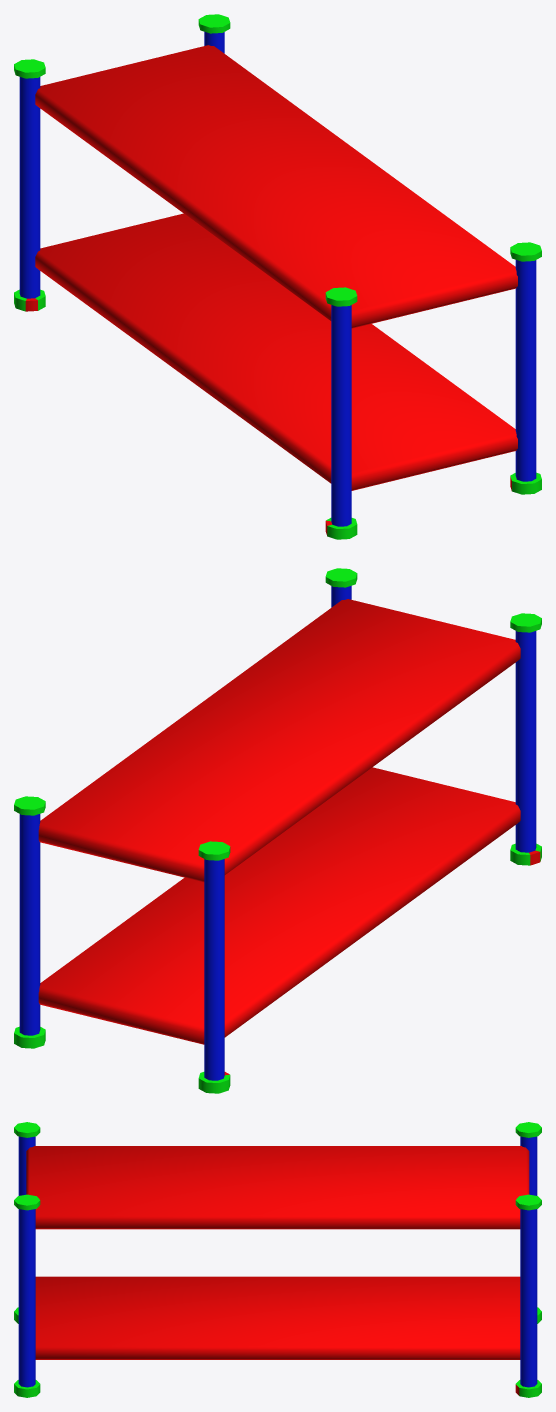
Rendered from ShoeRack.fbx.
3 renders of one model, top to bottom at view 1: azimuth 30°, elevation 25°; view 2: azimuth 150°, elevation 25°; view 3: azimuth 270°, elevation 25°, orthographic. The views are drawn at different scales.
Parts seen in each view (by area): view 1: ShoeRack; view 2: ShoeRack; view 3: ShoeRack.
Part boxes in pixels (x1,y1,x2,y2): ShoeRack: (14, 14, 541, 539); ShoeRack: (14, 568, 541, 1093); ShoeRack: (14, 1122, 541, 1397).
Size of the model in its own units: 34.12 by 36.55 by 90.97.
